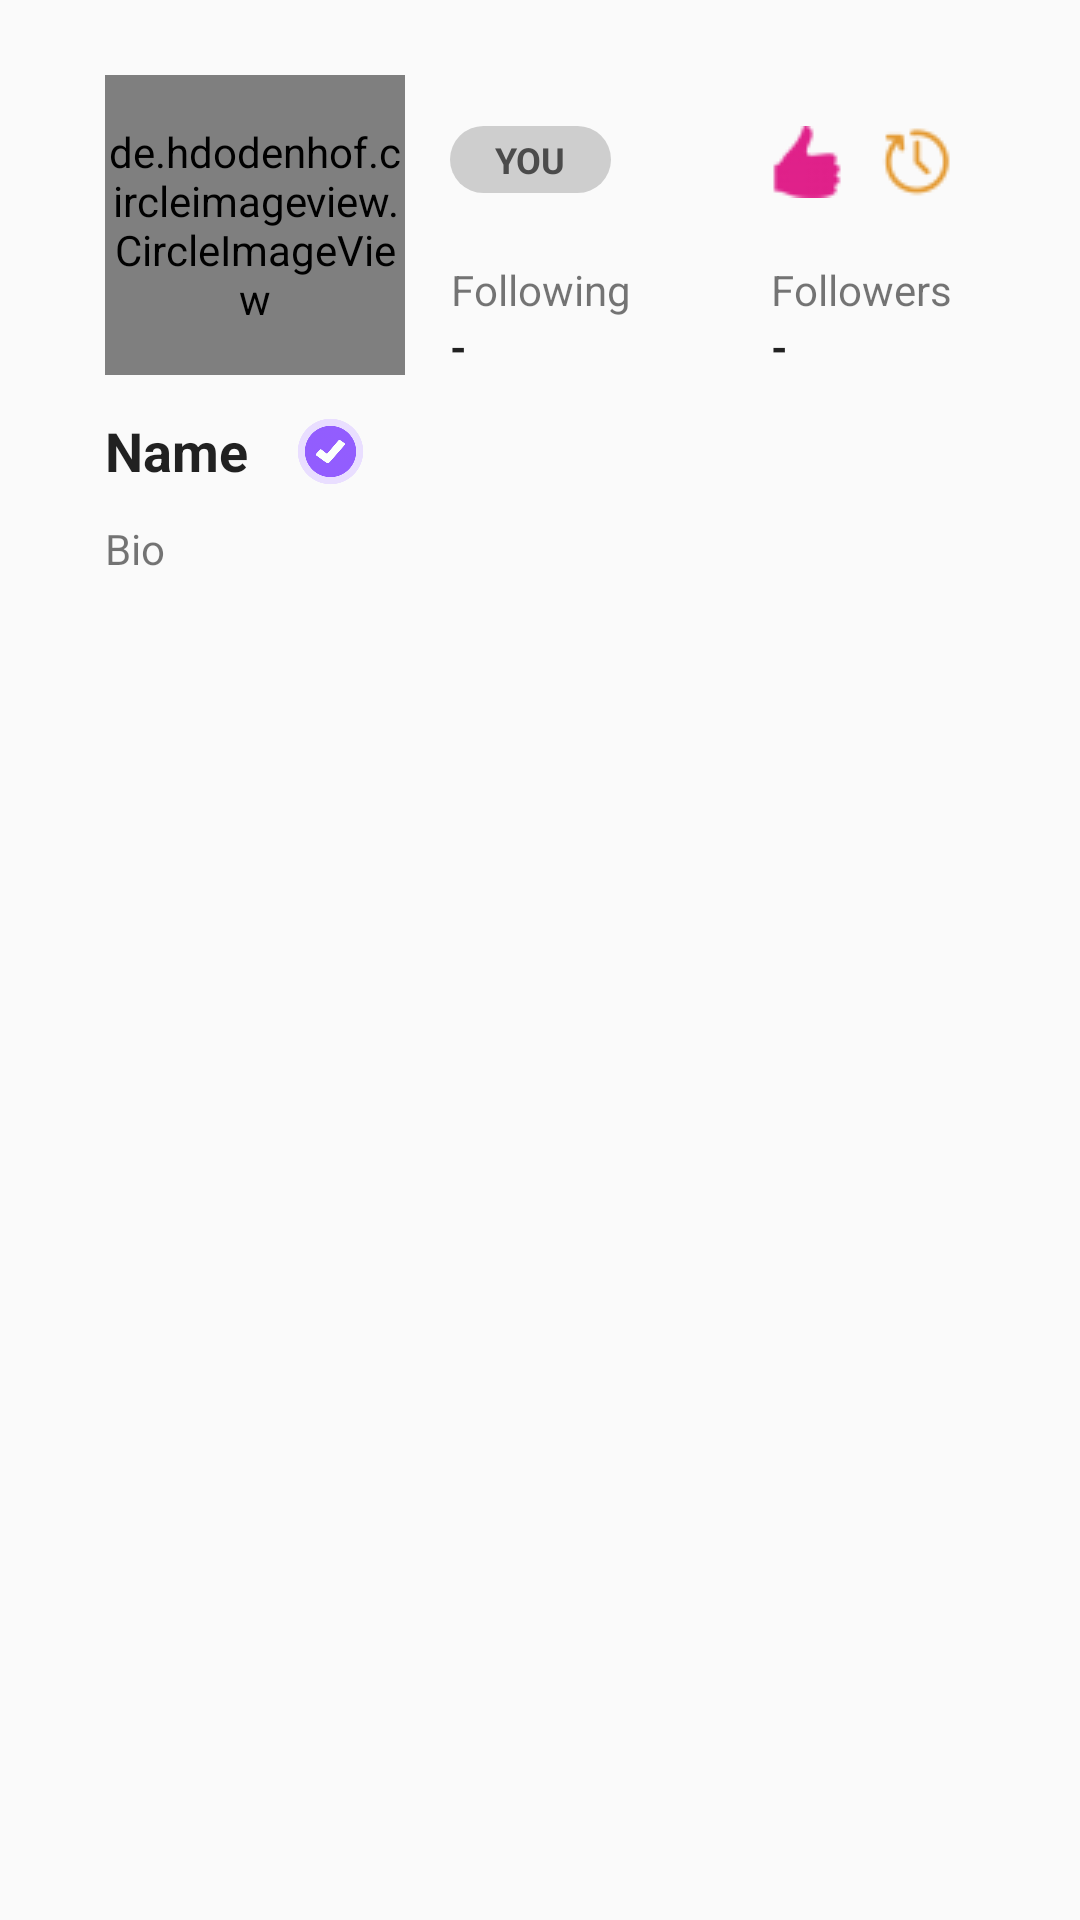

Screen size 1080 × 1920. Icon name, then its center in pixels as point (x, y):
like: point (807, 162)
verified: point (330, 451)
